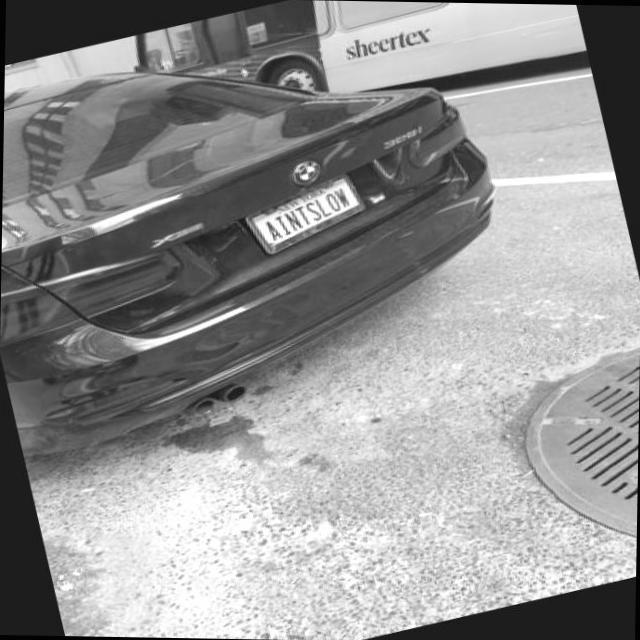LicensePlate: (242, 171, 369, 255)
